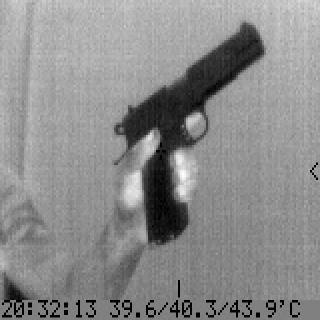Gun: (112, 18, 268, 248)
